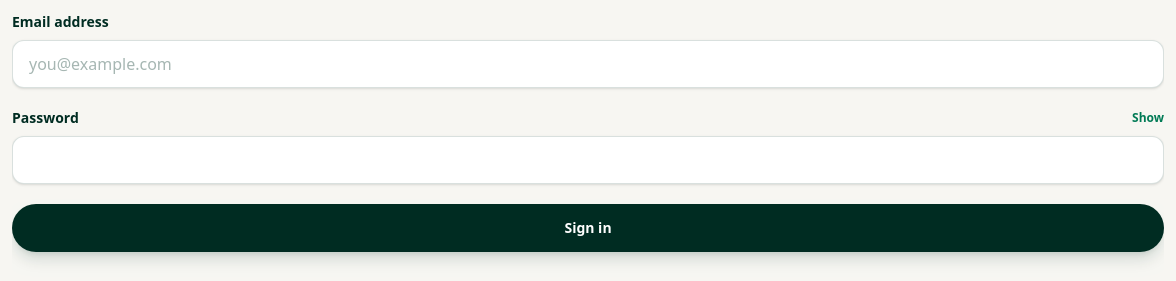
Test: frontend authentication interface › shows a processing state while login is pending
In the field labelled "Email address": (588, 64) [12,40,1164,88], type "member@example.com"
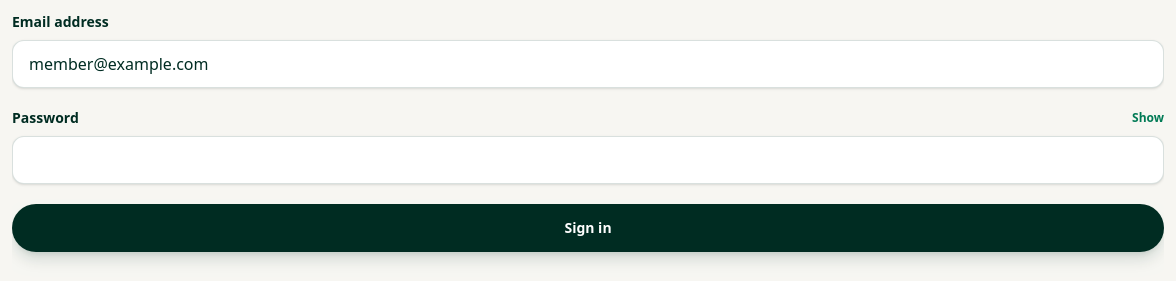
In the password field labelled "Password": (588, 160) [12,136,1164,184], type "Secure-Test-Password-42!"
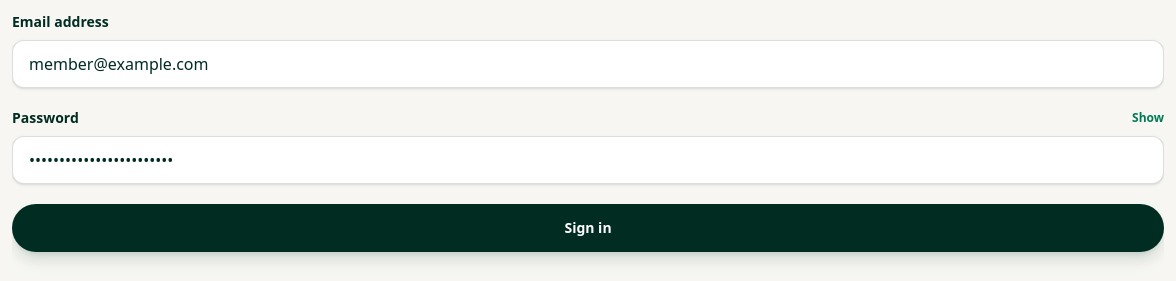
Click the button "Sign in": (588, 228) [12,204,1164,252]
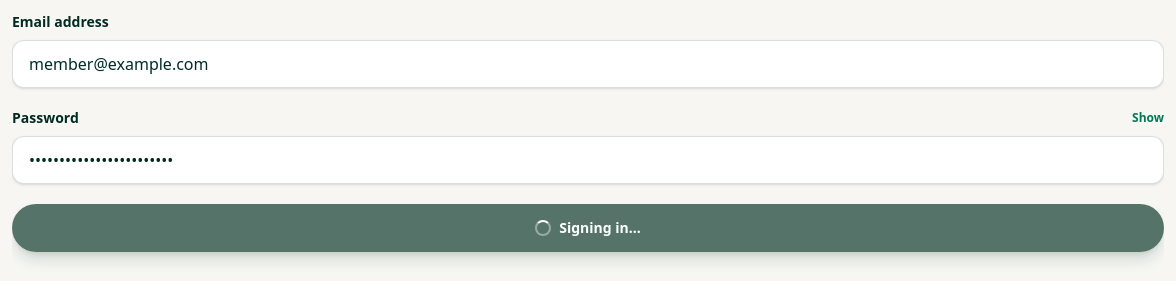
Expected: the button "Signing in..." is disabled, [12,204,1164,252]
